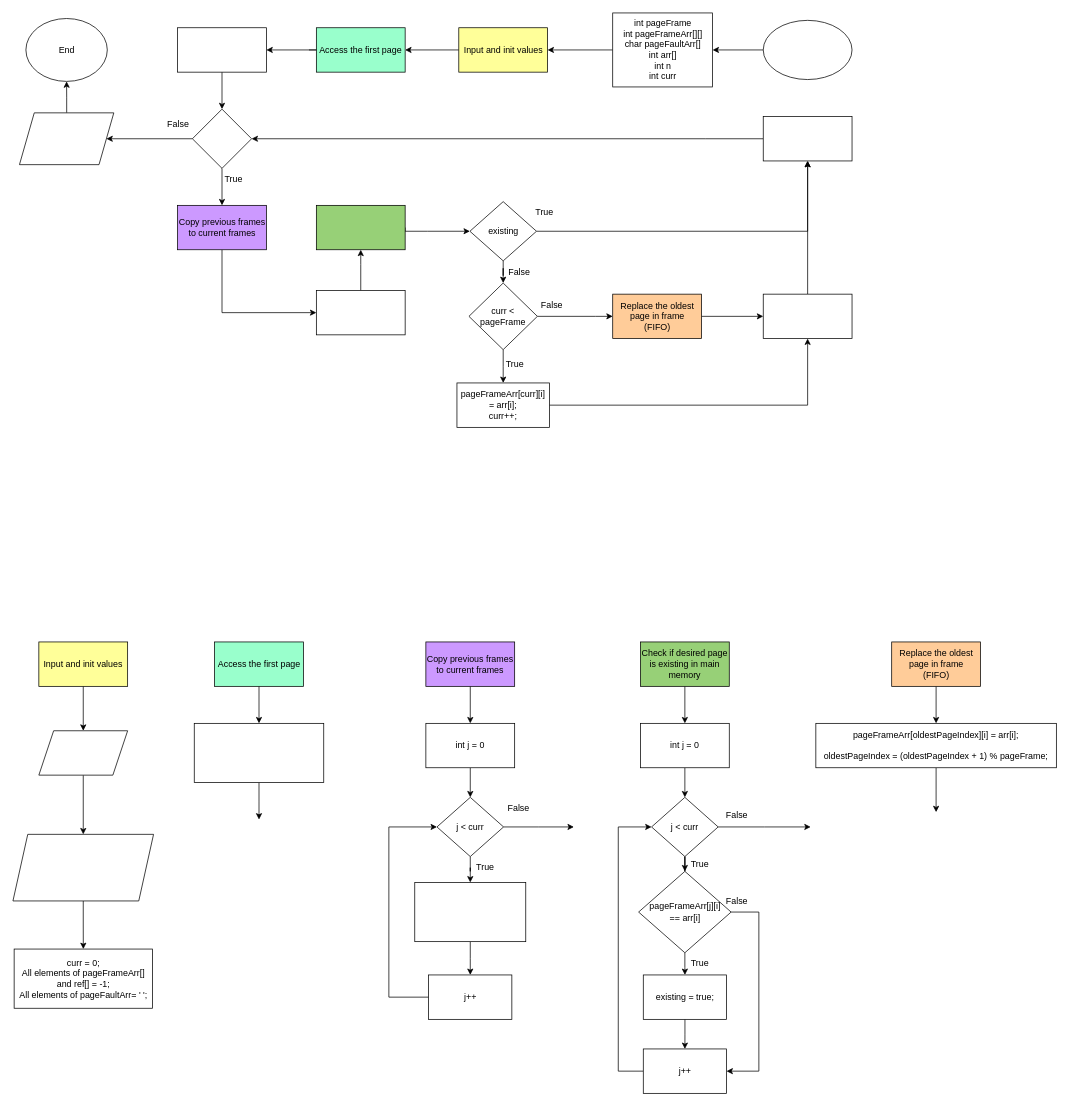
The diagram is 1069 pixels wide and 1106 high, and some of its shapes have lost their labels. The box of each missing label's shape, as (x1, y1, x2, y2) in pixels:
Begin: (762, 20, 852, 80)
bool existing = false: (316, 290, 405, 335)
Check if desired page is existing: (316, 205, 405, 250)
Export result: (19, 112, 114, 165)
i < n: (192, 108, 252, 168)
i++: (762, 116, 852, 161)
Input n, arr[n]: (38, 730, 128, 775)
input pageFrame, pageFrameArr[pageFrame][n]: (12, 834, 154, 901)
int i = 1: (177, 27, 266, 72)
pageFaultArr[i] = '*';: (762, 293, 852, 339)
pageFrameArr[0][0] = arr[0]; pageFaultArr[0] = '*'; curr++;: (194, 723, 324, 783)
pageFrameArr[j][i] = pageFrameArr[j][i - 1];: (414, 882, 526, 942)
